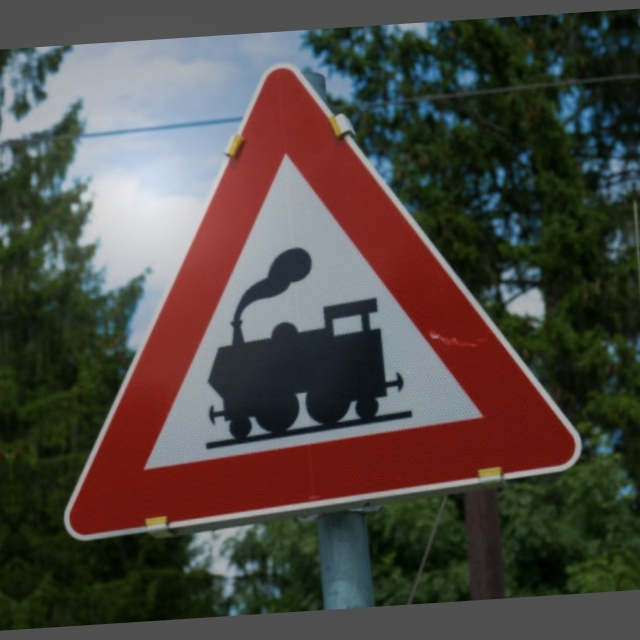Unguarded_Level_Crossing: (55, 50, 572, 527)
